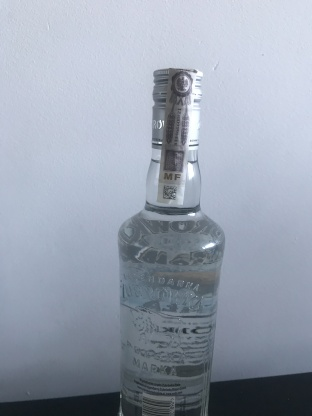nakretka: (149, 62, 205, 153)
